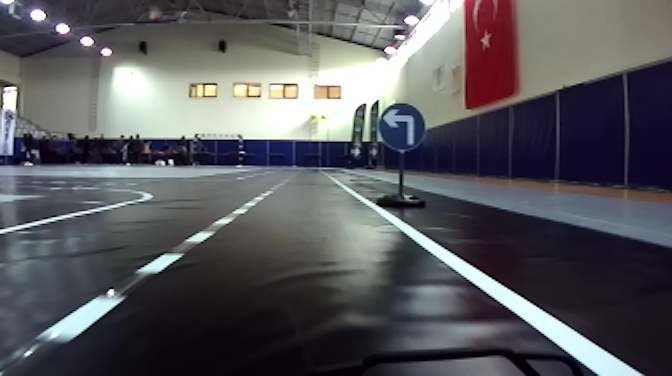sola_donus: (380, 103, 428, 148)
